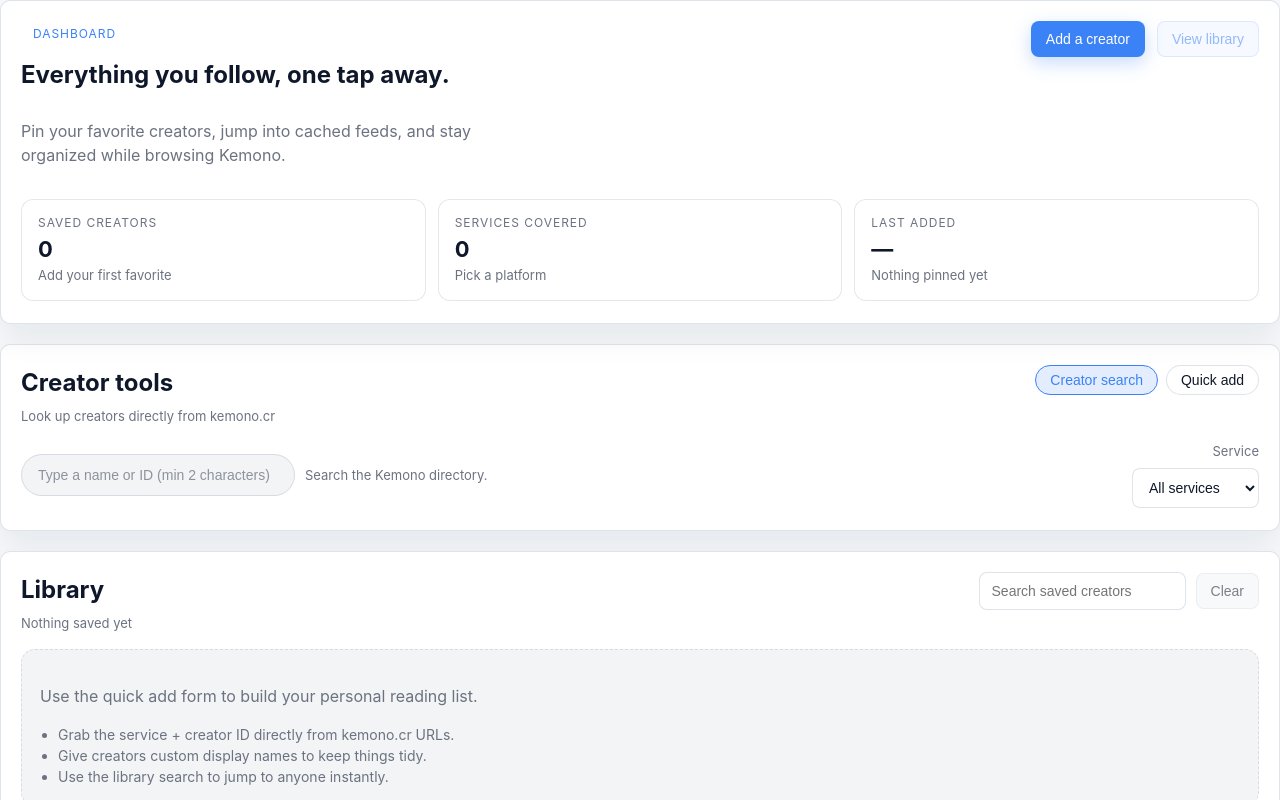
it: Home edge-case coverage › shows min-input guidance and adds a service summary when service filter is selected
The image size is (1280, 800).
Type "a" into the field named "Search creators" at (156, 475), box [26,459,286,491]
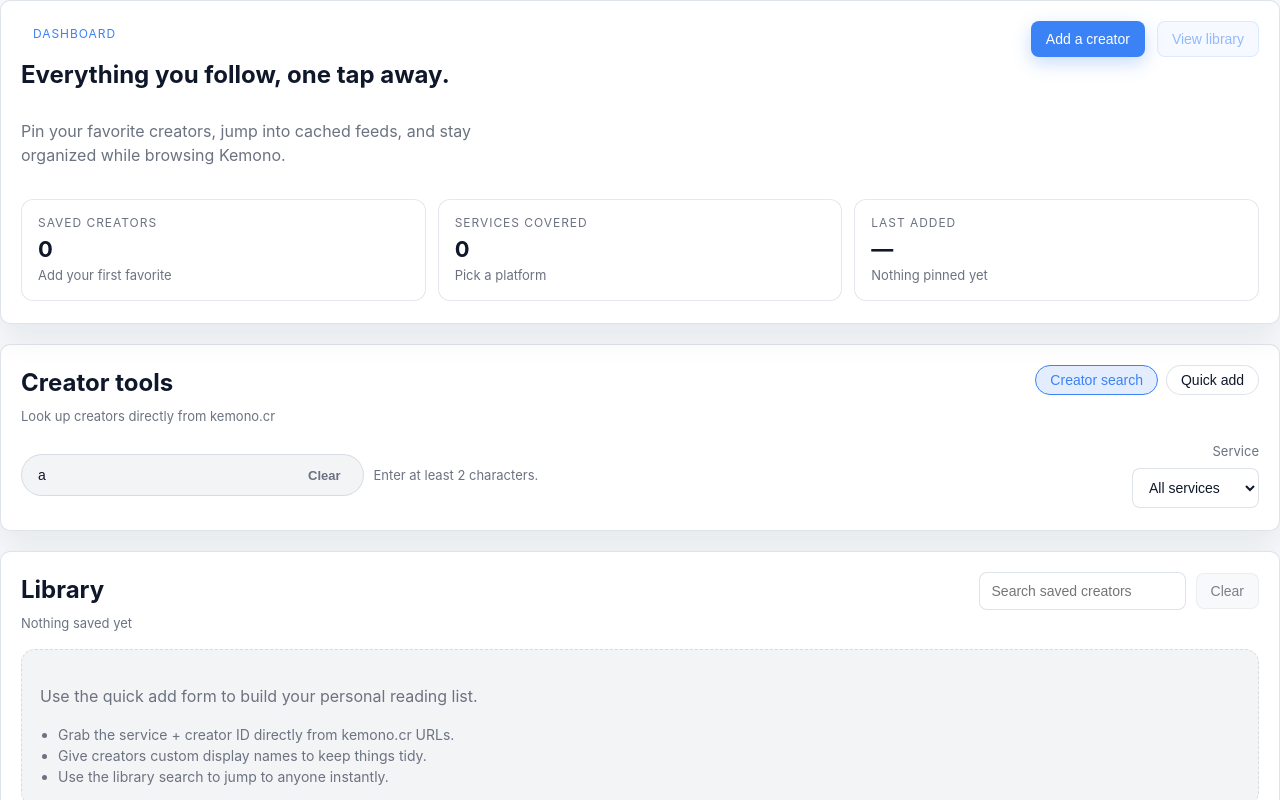
Check: the text "Enter at least 2 characters." is shown, box [374,466,538,484]
Replace the text in the field named "Search creators" with "al" at (156, 475), box [26,459,286,491]
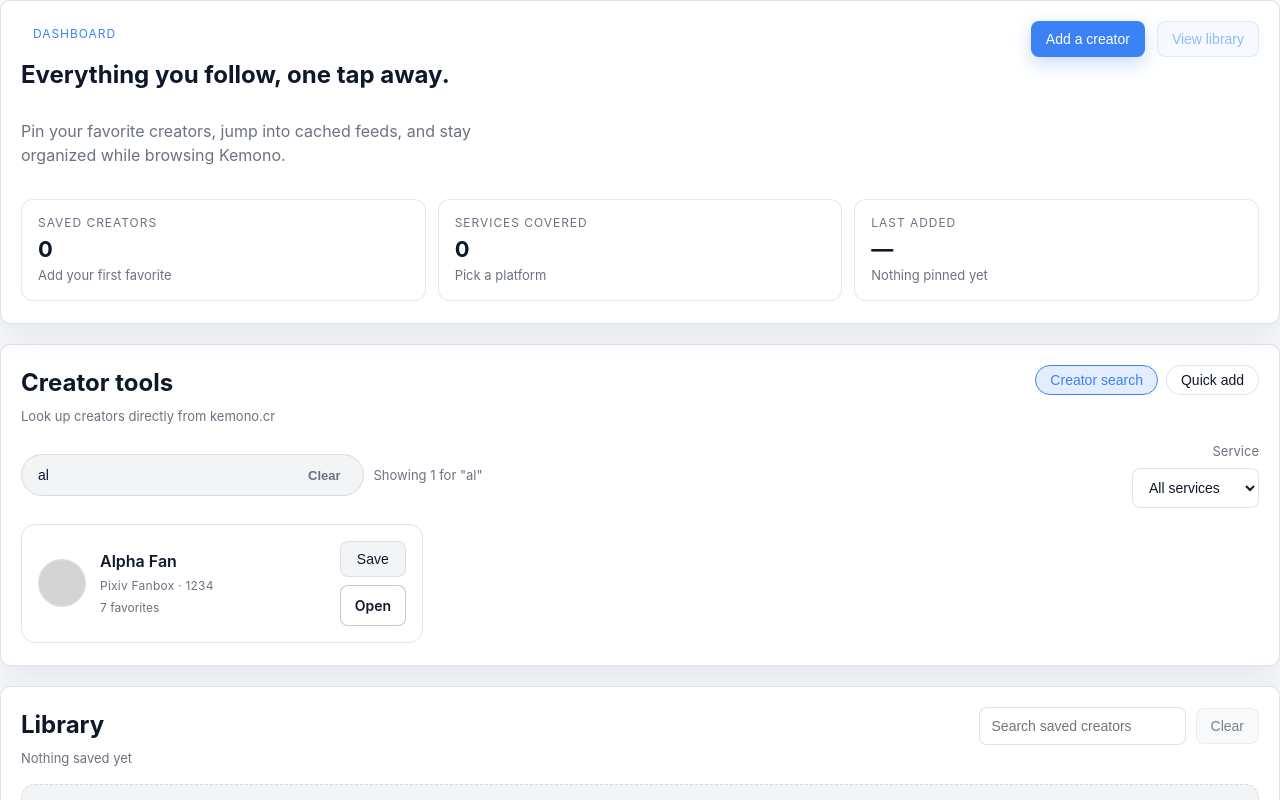
Check: the link "Alpha Fan" is shown, box [100,551,177,571]
Select "Pixiv Fanbox" in the dropdown labelled "Service" at (1196, 488), box [1132,468,1259,508]
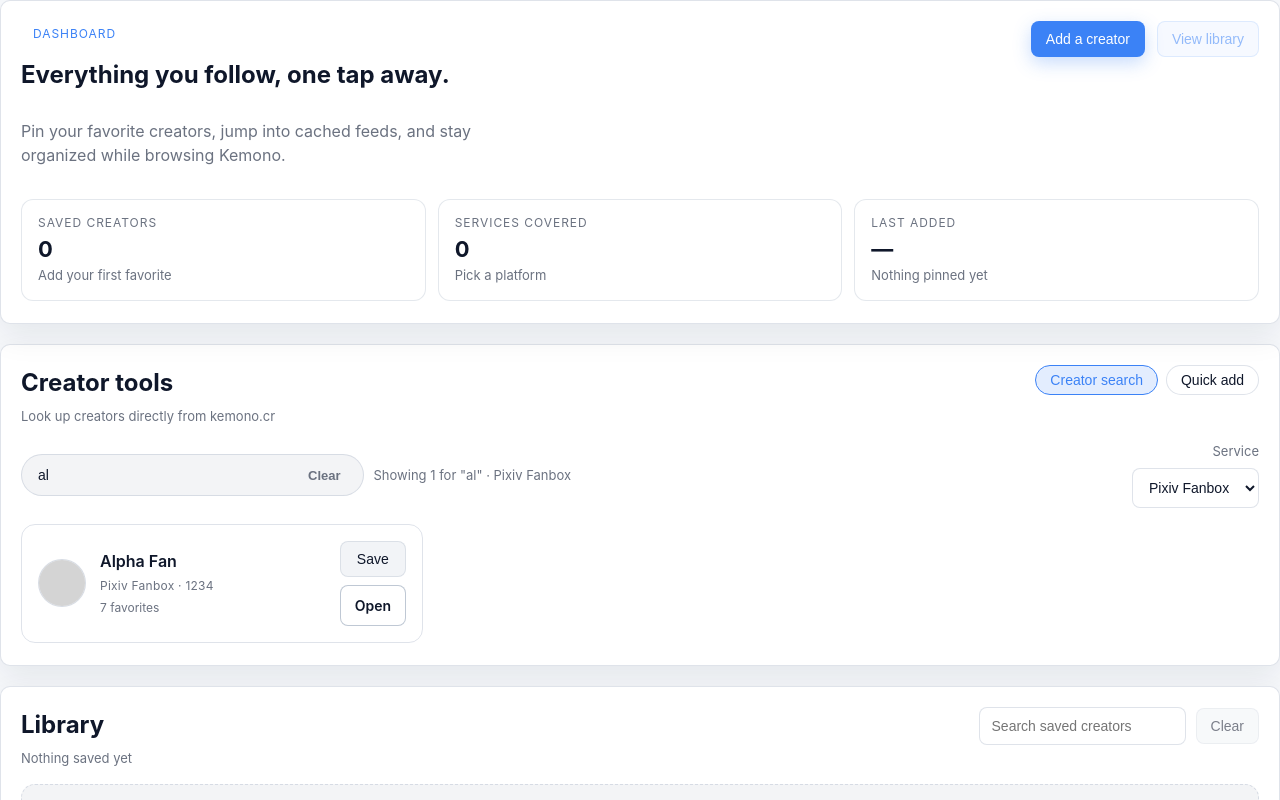
Check: the text "Showing 1 for \"al\" · Pixiv Fanbox" is shown, box [374,466,571,484]
